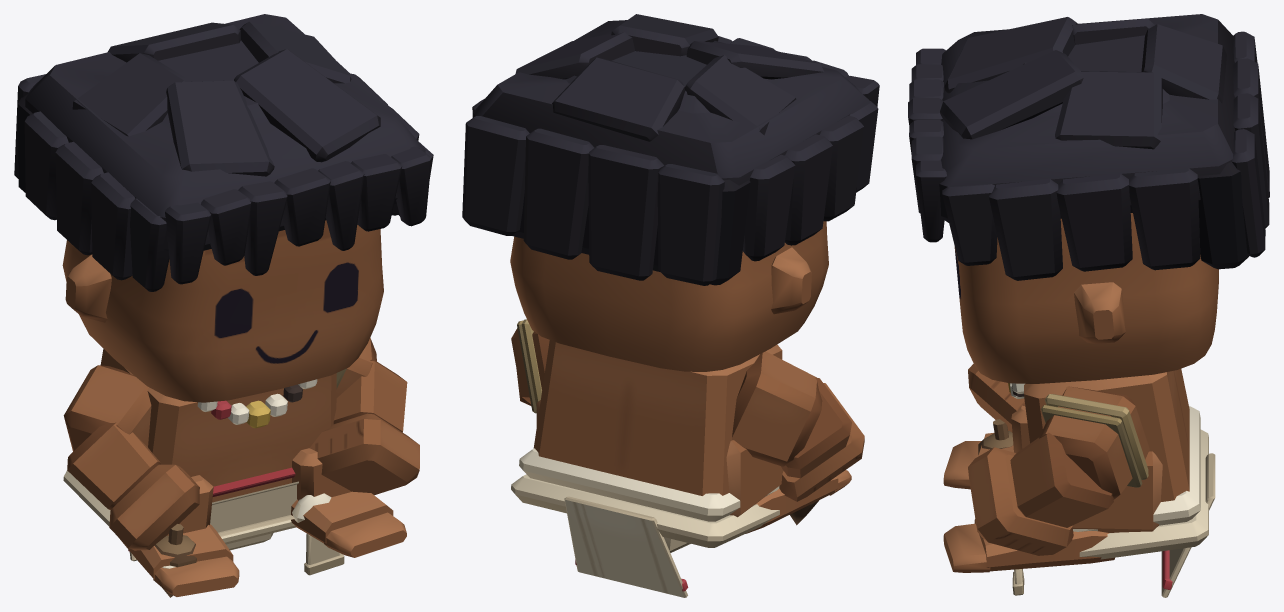
Rendered from audience_v2_boy_sit.glb.
3 renders of one model, left to right at view 1: azimuth 30°, elevation 25°; view 2: azimuth 150°, elevation 25°; view 3: azimuth 270°, elevation 25°, orthographic. The views are drawn at different scales.
Parts seen in each view (by area): view 1: audience_v2_boy_sit; view 2: audience_v2_boy_sit; view 3: audience_v2_boy_sit.
Boxes of the visible parts, x1,y1,x2,y2 form: audience_v2_boy_sit: (14, 14, 433, 597); audience_v2_boy_sit: (462, 14, 879, 597); audience_v2_boy_sit: (908, 14, 1269, 597).
Bounding box in the file's own units: 0.4181 × 0.6118 × 0.3796.
1 material, 1 textured.
